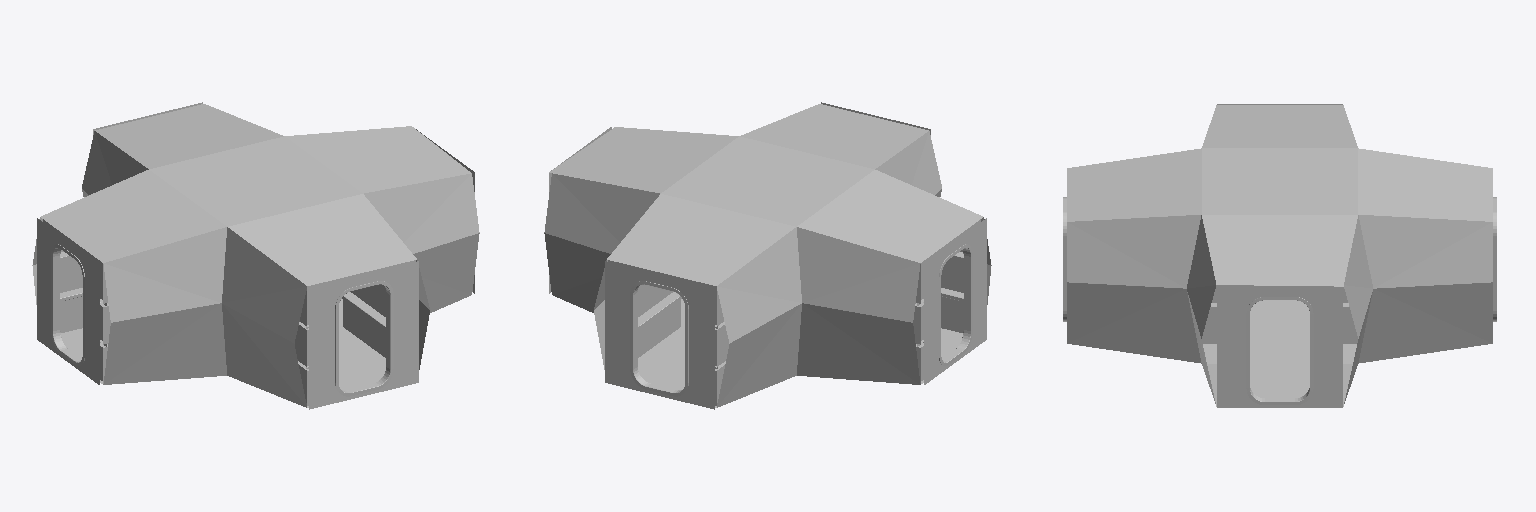
The model's file is Fork4.obj.
3 views of the same model, side by side, from view 1: azimuth 30°, elevation 25°; view 2: azimuth 150°, elevation 25°; view 3: azimuth 270°, elevation 25° (orthographic).
Parts seen in each view (by area): view 1: Cube.048_Cube.045; view 2: Cube.048_Cube.045; view 3: Cube.048_Cube.045.
Boxes of the visible parts, x1,y1,x2,y2 form: Cube.048_Cube.045: [32, 102, 479, 409]; Cube.048_Cube.045: [544, 102, 991, 409]; Cube.048_Cube.045: [1063, 104, 1496, 407].
Size of the model in its own units: 29.1 by 11 by 29.1.